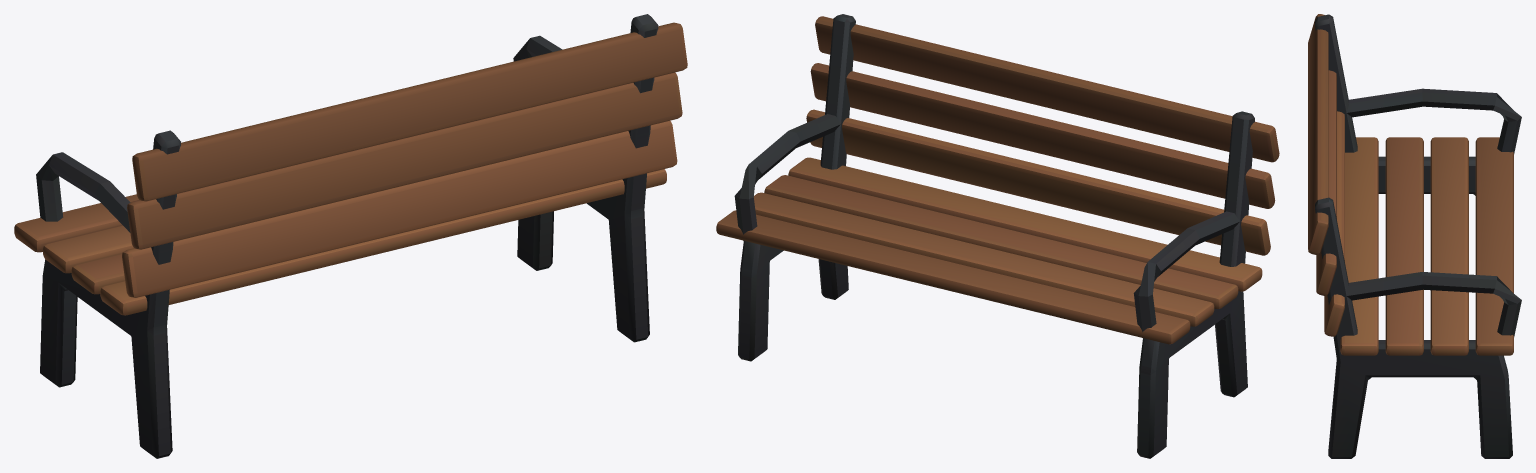
The model's file is bench.glb.
3 renders of one model, left to right at view 1: azimuth 30°, elevation 25°; view 2: azimuth 150°, elevation 25°; view 3: azimuth 270°, elevation 25°, orthographic. The views are drawn at different scales.
Visible parts, largest first — view 1: bench; view 2: bench; view 3: bench.
Part boxes in pixels (bbox=[...]): bench: bbox=[14, 14, 687, 458]; bench: bbox=[716, 14, 1279, 458]; bench: bbox=[1308, 14, 1521, 458].
Size of the model in its own units: 1.1 by 0.6281 by 0.4739.
